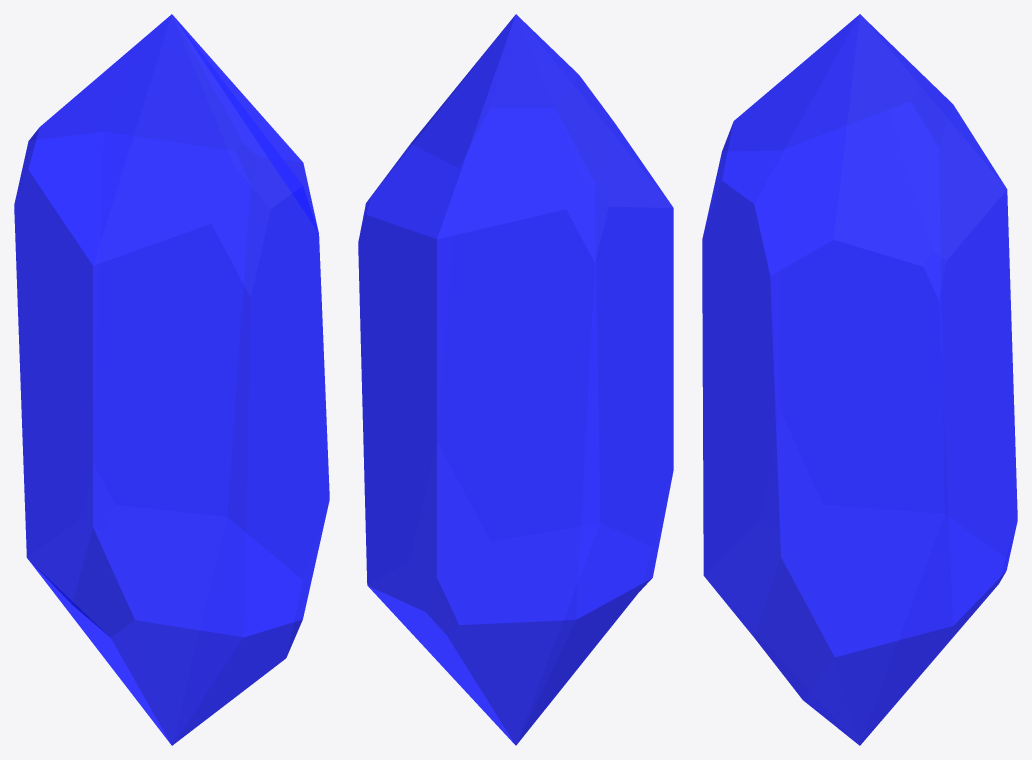
Rendered from gem.glb.
3 views of the same model, side by side, from view 1: azimuth 30°, elevation 25°; view 2: azimuth 150°, elevation 25°; view 3: azimuth 270°, elevation 25° (orthographic).
Visible parts, largest first — view 1: GemFull_0; view 2: GemFull_0; view 3: GemFull_0.
Part boxes in pixels (box(x1,y1,x2,y2)): GemFull_0: box(14, 14, 329, 745); GemFull_0: box(358, 14, 673, 745); GemFull_0: box(702, 14, 1017, 745).
Size of the model in its own units: 0.8388 by 2.48 by 0.9686.
